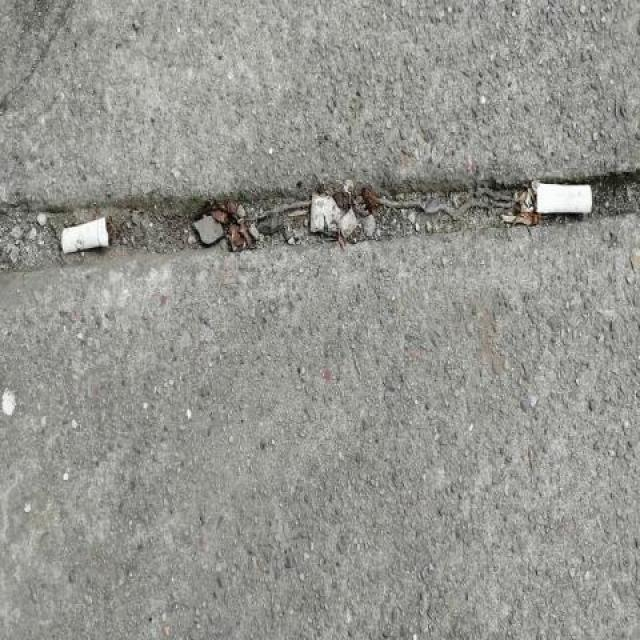non-organic waste: (527, 178, 598, 218), (56, 211, 112, 261)
